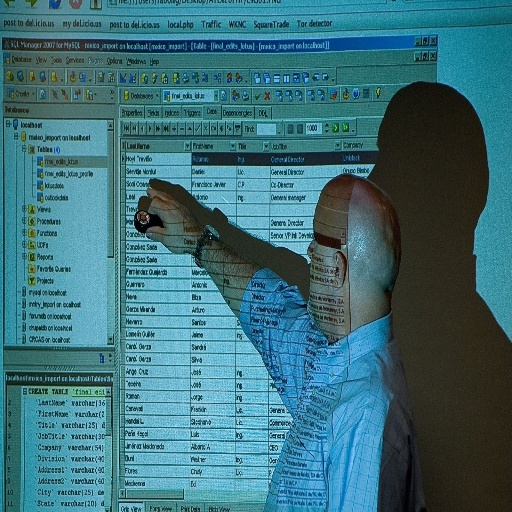hand: (141, 185, 197, 256)
